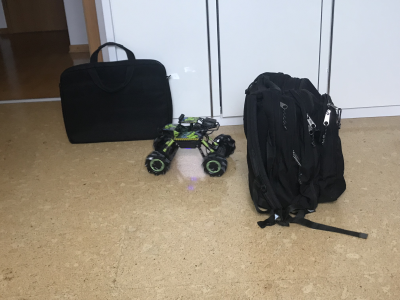remote control car: (143, 113, 239, 179)
